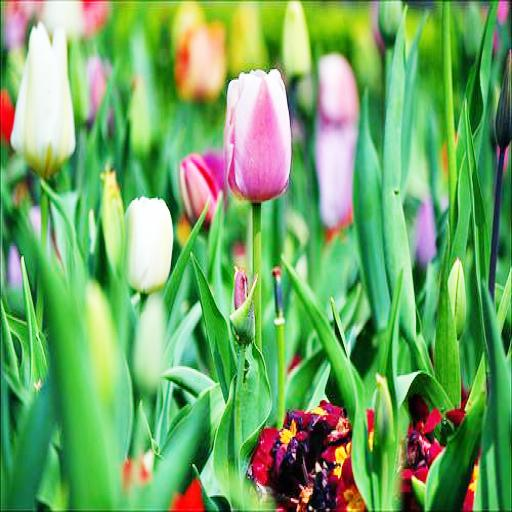tulip: (11, 24, 82, 158), (222, 69, 293, 203), (127, 197, 174, 287), (175, 150, 220, 228), (346, 258, 347, 260)
